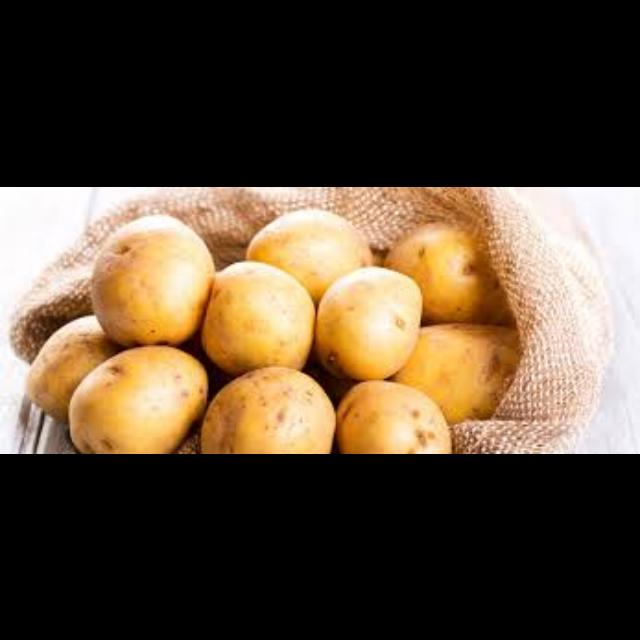Potato: (55, 344, 209, 454), (90, 221, 216, 339), (203, 369, 345, 453), (320, 265, 426, 377), (208, 262, 314, 366), (256, 210, 380, 294)
